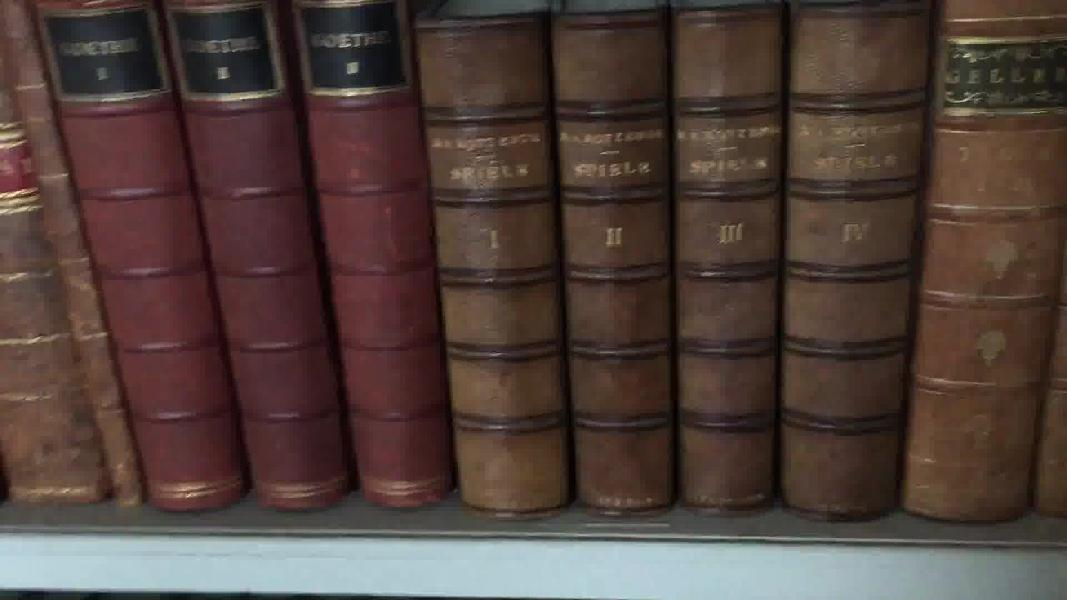Aa6-11_13: (29, 7, 474, 525)
Aa6-18_23: (419, 13, 924, 532)
